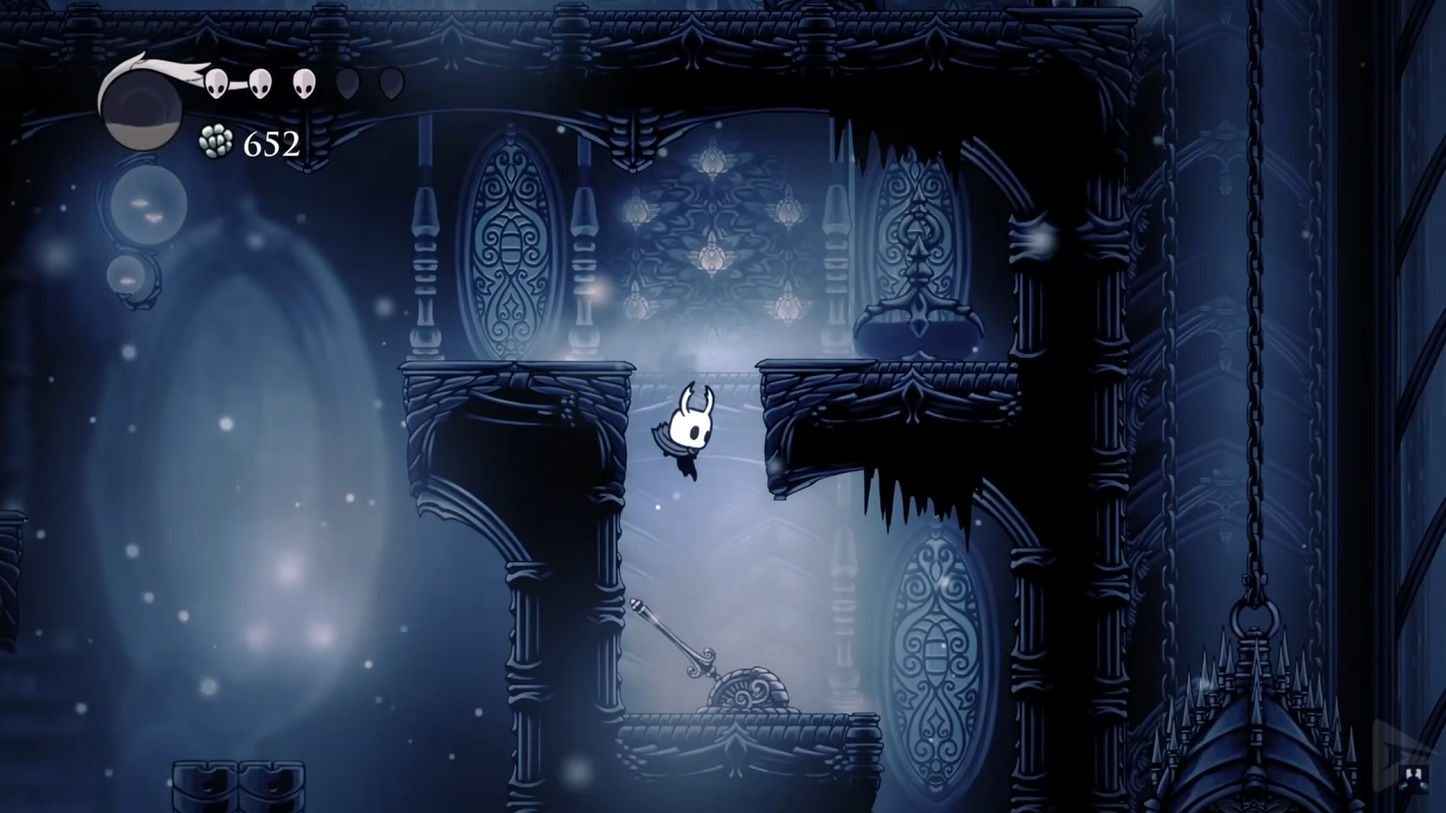HK: (655, 382, 715, 481)
